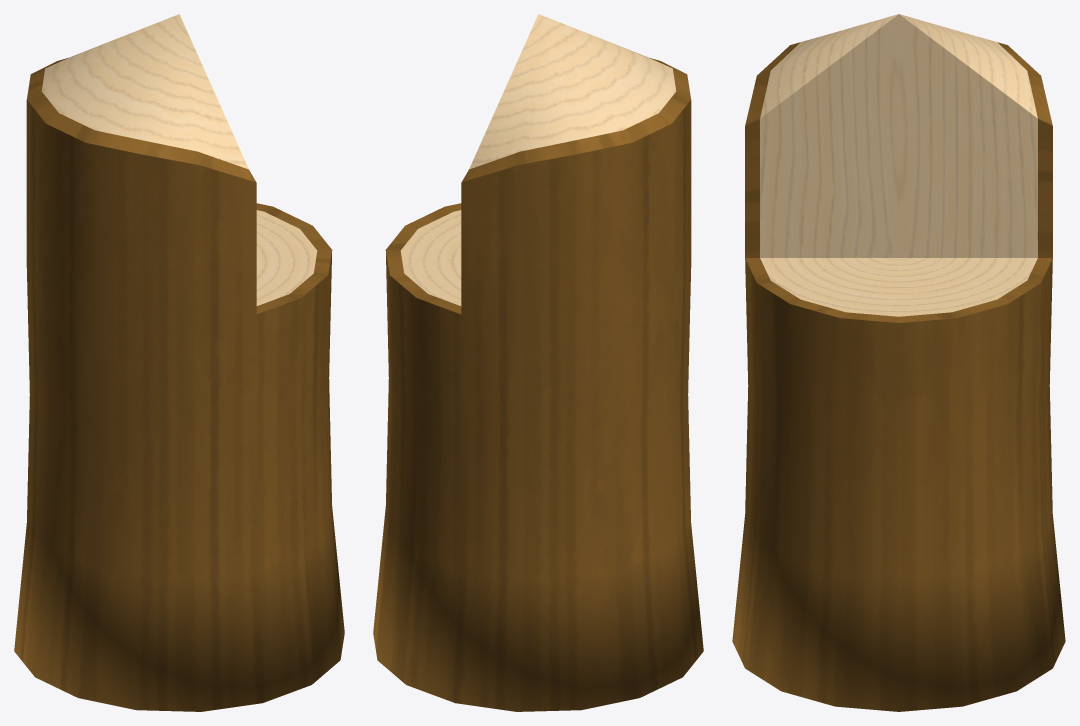
Rendered from bot_tree2.fbx.
3 views of the same model, side by side, from view 1: azimuth 30°, elevation 25°; view 2: azimuth 150°, elevation 25°; view 3: azimuth 270°, elevation 25° (orthographic).
Visible parts, largest first — view 1: tree_2; view 2: tree_2; view 3: tree_2.
Boxes of the visible parts, x1=… form: tree_2: x1=14, y1=14, x2=344, y2=711; tree_2: x1=373, y1=14, x2=703, y2=711; tree_2: x1=732, y1=14, x2=1065, y2=711.
Size of the model in its own units: 866 by 1800 by 866.
